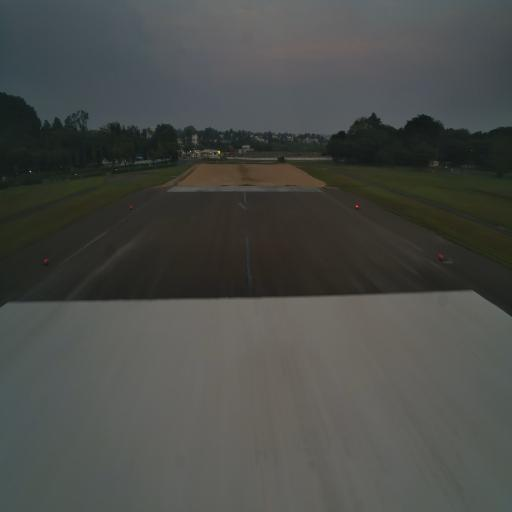on: (42, 255, 50, 268), (438, 250, 446, 263)
